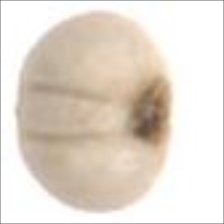L5: (15, 81, 136, 140), (126, 72, 176, 151)
L6: (13, 8, 176, 217)
